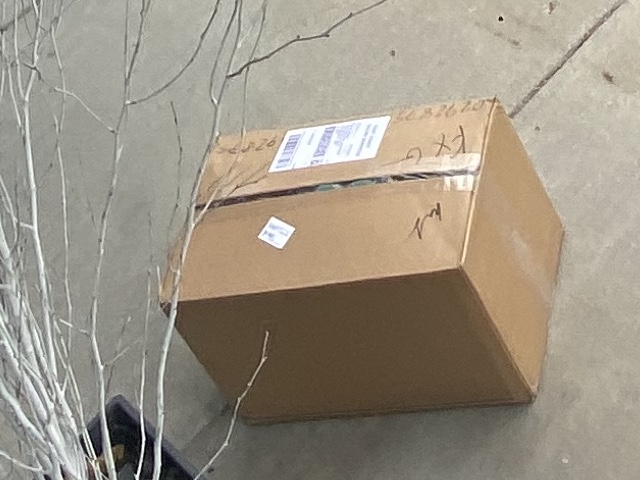package: (165, 96, 566, 422)
